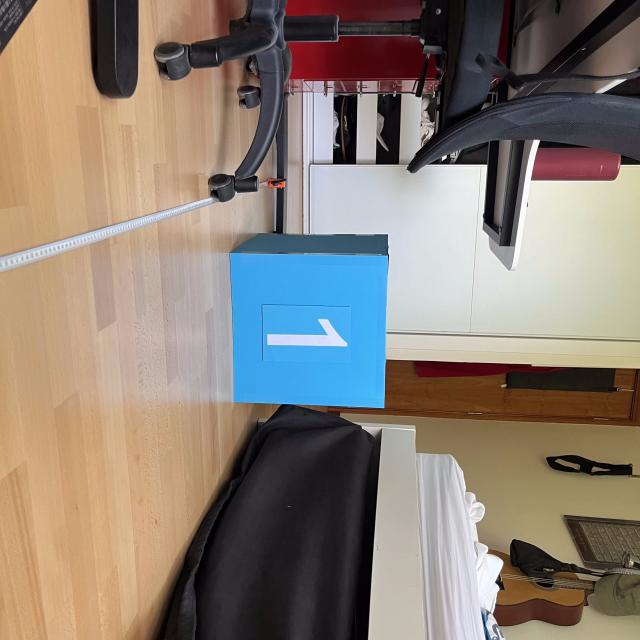box: (225, 228, 392, 410)
